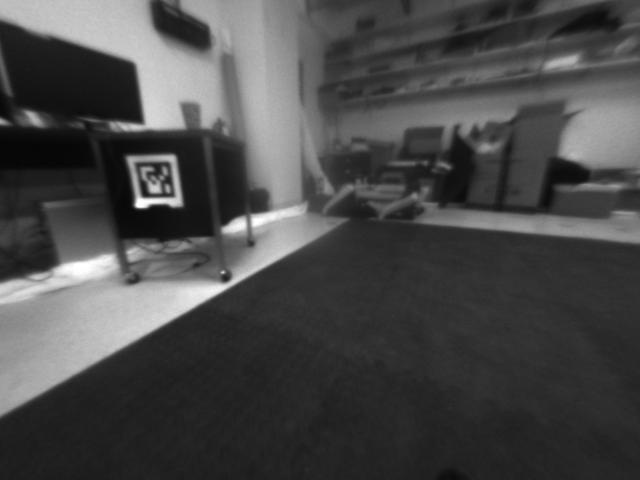coffee_cup: (176, 100, 206, 130)
